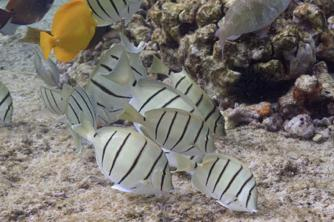Acanthuridae -Surgeonfishes-: (77, 106, 173, 198), (171, 143, 261, 217), (120, 99, 221, 155), (77, 0, 150, 27)
